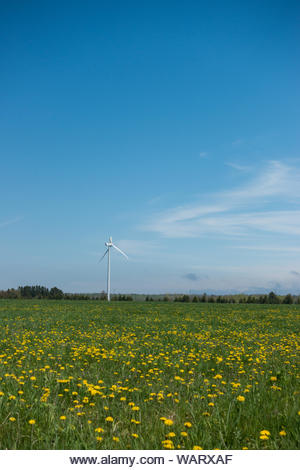faulty: (95, 231, 133, 289)
